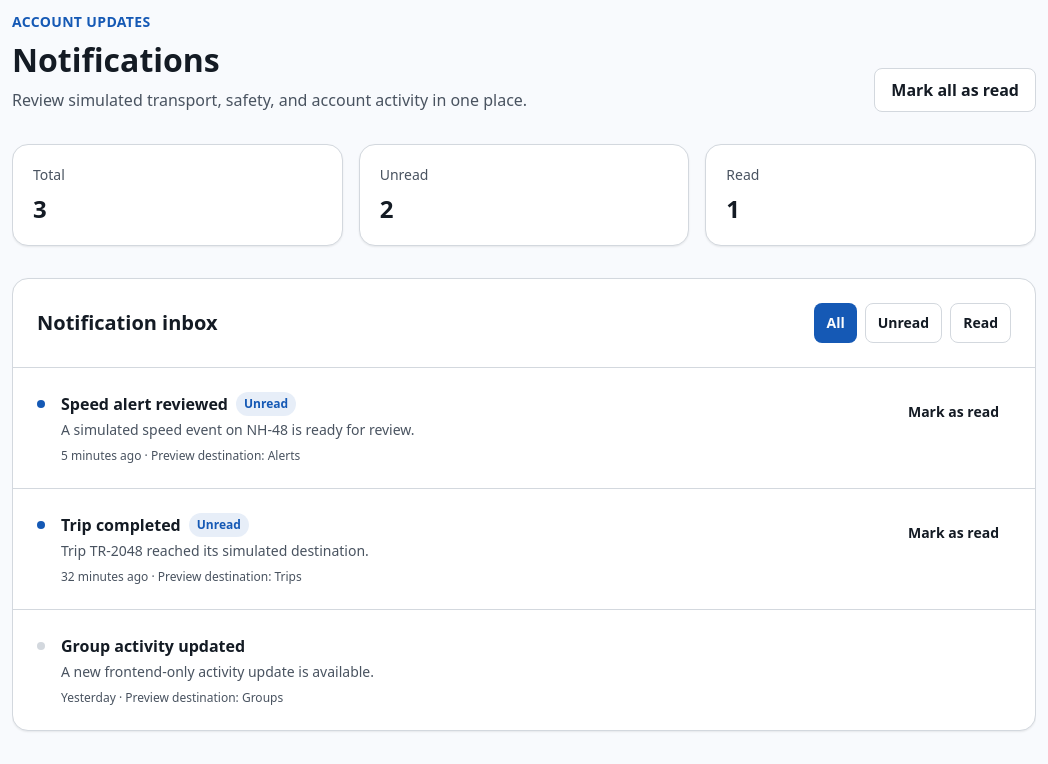
NotificationsPage › marks every notification as read and shows an empty unread state
Click the button "Mark all as read" at (955, 90), box [874,68,1036,112]
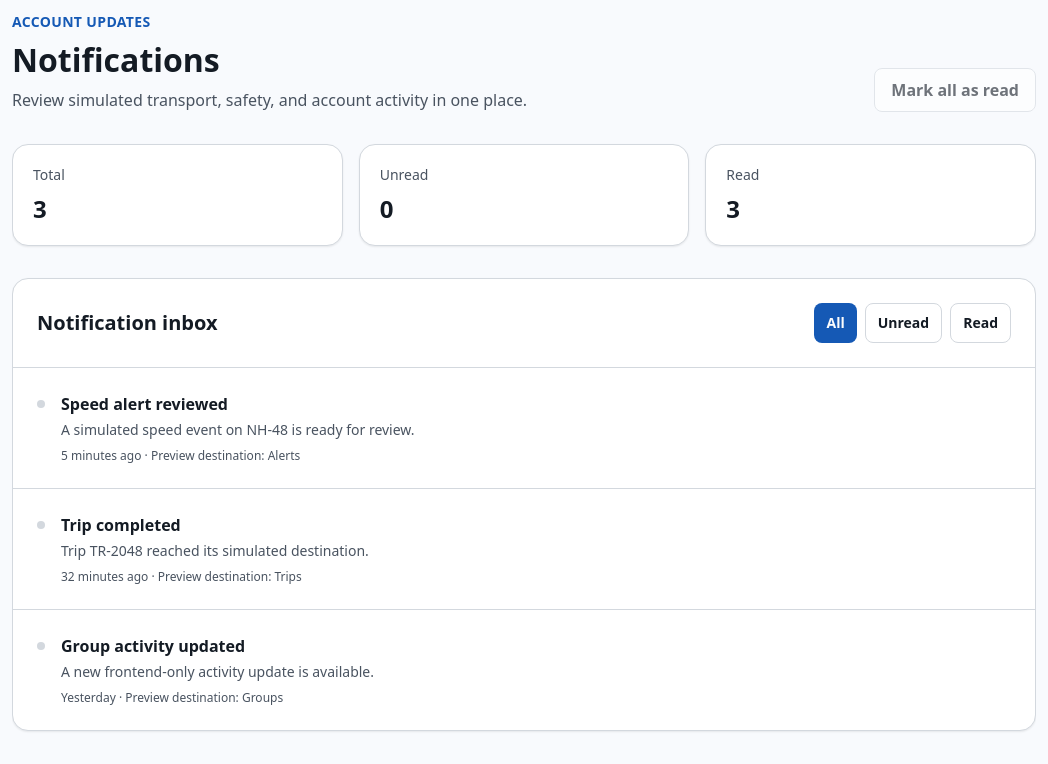
Click the button "Unread" at (903, 323), box [865,303,942,343]
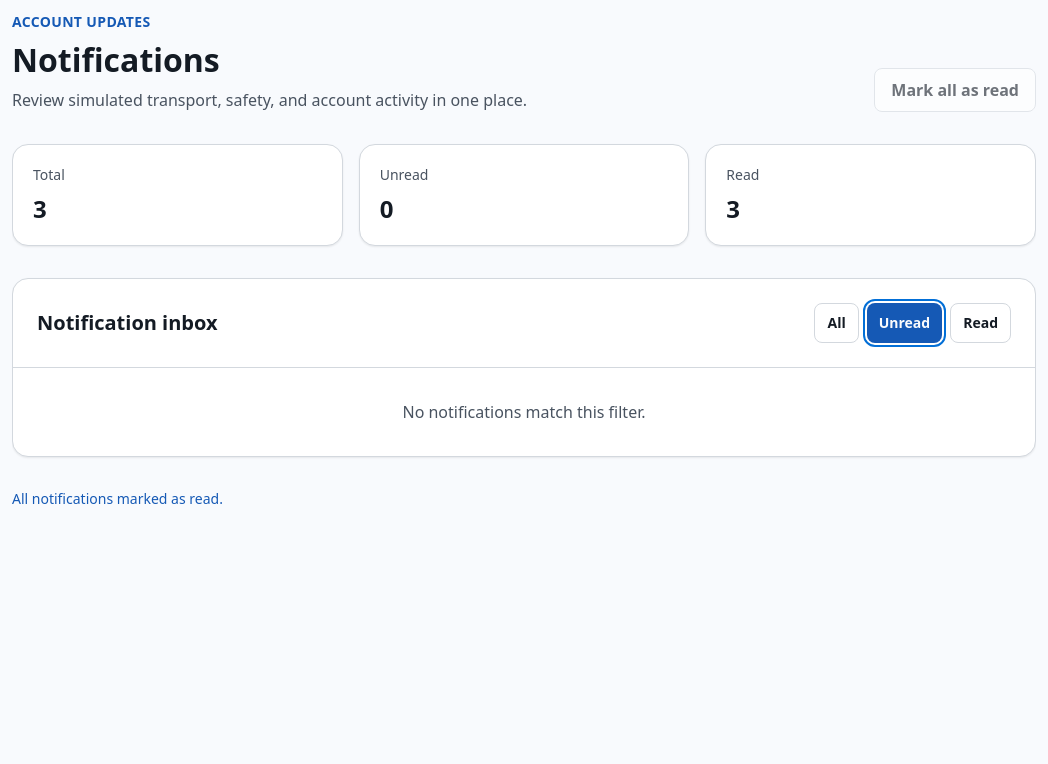
Result: the button "Mark all as read" is disabled at [874,68,1036,112]
Result: the text "No notifications match this filter." is shown at [402,401,646,423]
